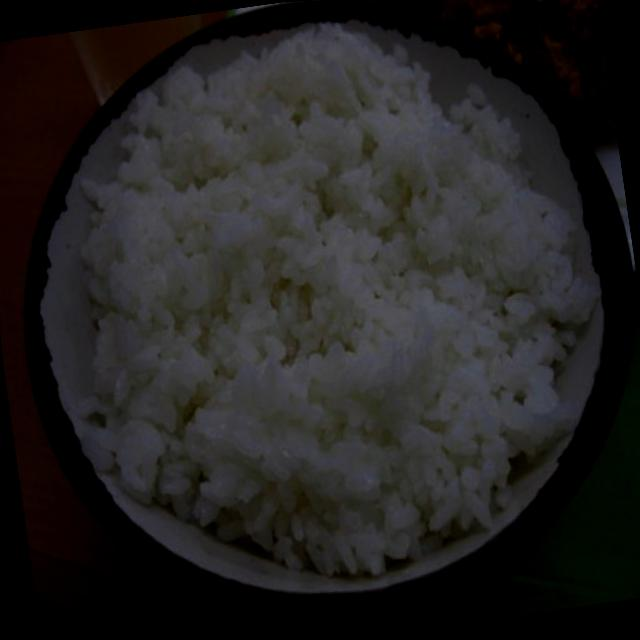Rice: (35, 0, 632, 610)
